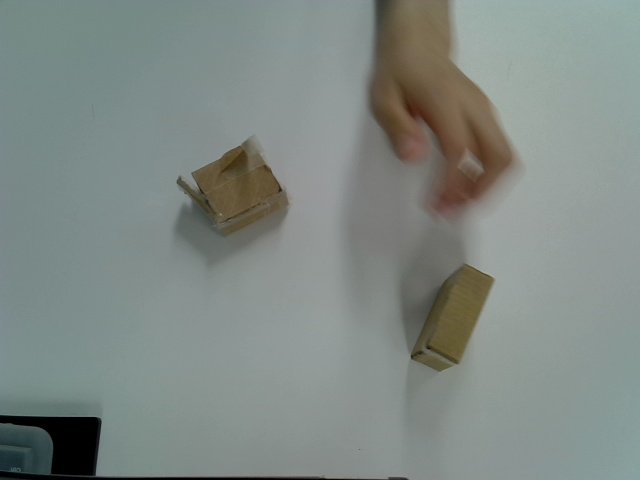defect: (176, 135, 293, 236)
normal: (410, 264, 498, 372)
